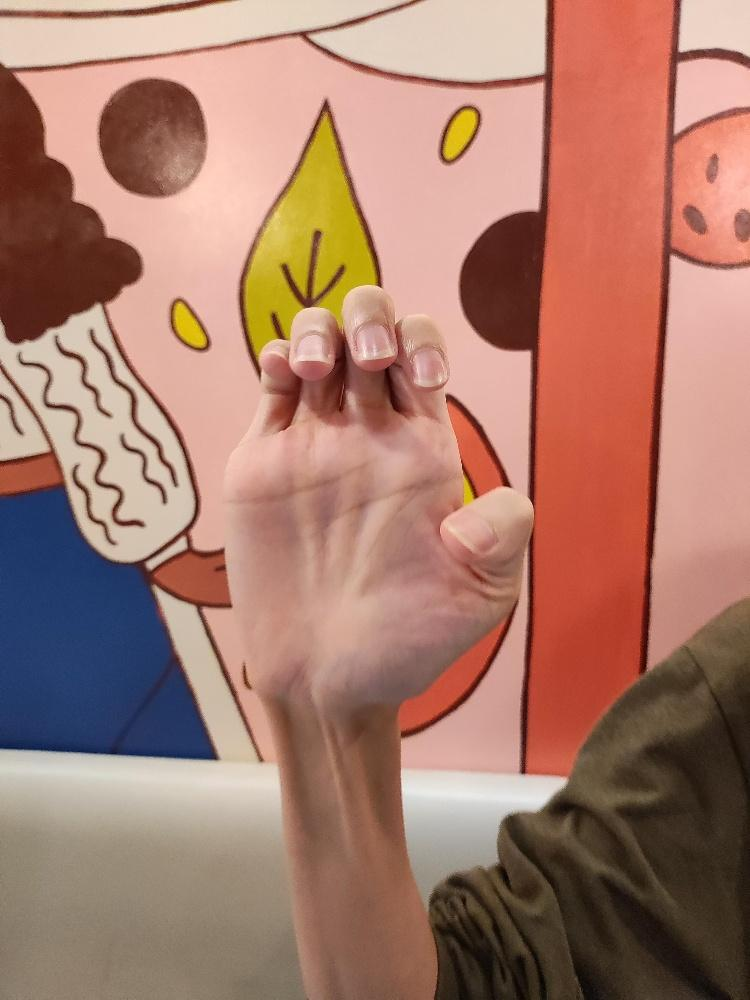e: (216, 280, 538, 715)
